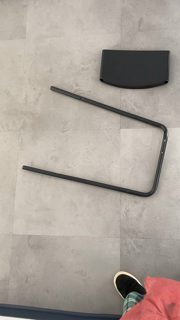Back: (97, 48, 172, 92)
U pipe: (19, 84, 171, 199)
